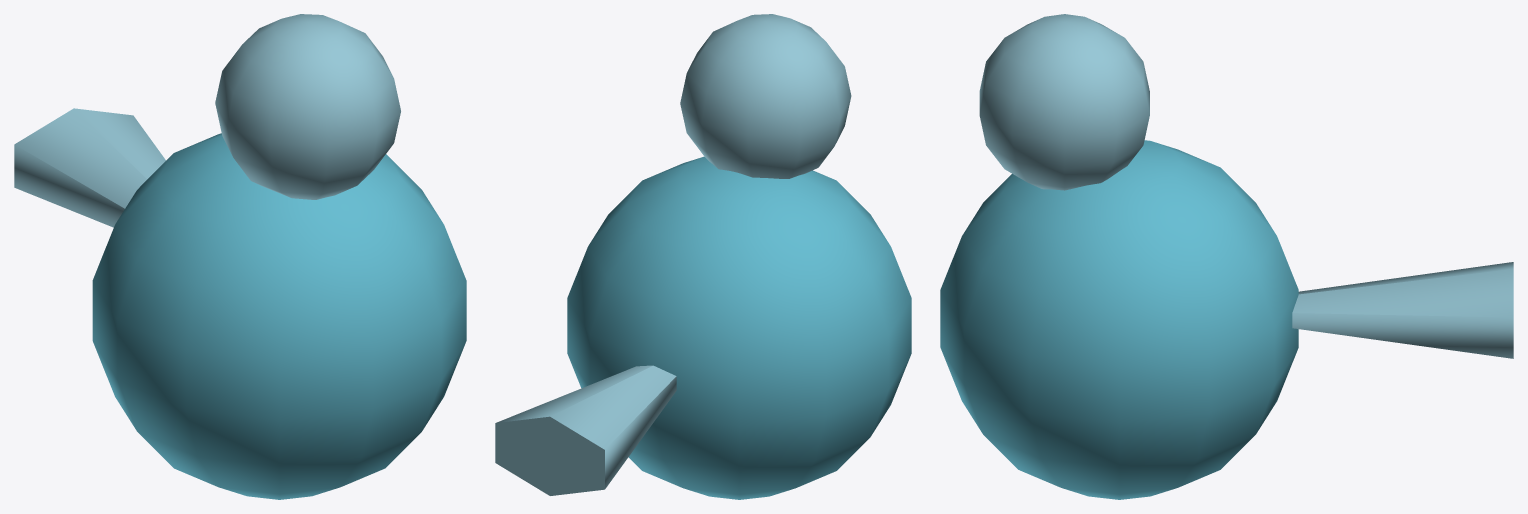
File: wind_monster_1.glb
The picture shows the model from 3 angles, left to right: view 1: azimuth 30°, elevation 25°; view 2: azimuth 150°, elevation 25°; view 3: azimuth 270°, elevation 25°; orthographic projection. The views are drawn at different scales.
Visible parts, largest first — view 1: CoreBody, Head, MOTIF_wind_tail; view 2: CoreBody, Head, MOTIF_wind_tail; view 3: CoreBody, Head, MOTIF_wind_tail.
Part boxes in pixels (x1,y1,x2,y2): CoreBody: (92,133,466,499); Head: (215,14,400,199); MOTIF_wind_tail: (14,108,165,227); CoreBody: (567,156,911,499); Head: (680,14,851,178); MOTIF_wind_tail: (495,365,676,495); CoreBody: (940,140,1298,499); Head: (979,14,1149,190); MOTIF_wind_tail: (1292,262,1513,358).
Size of the model in its own units: 1.18 by 1.67 by 1.88.
